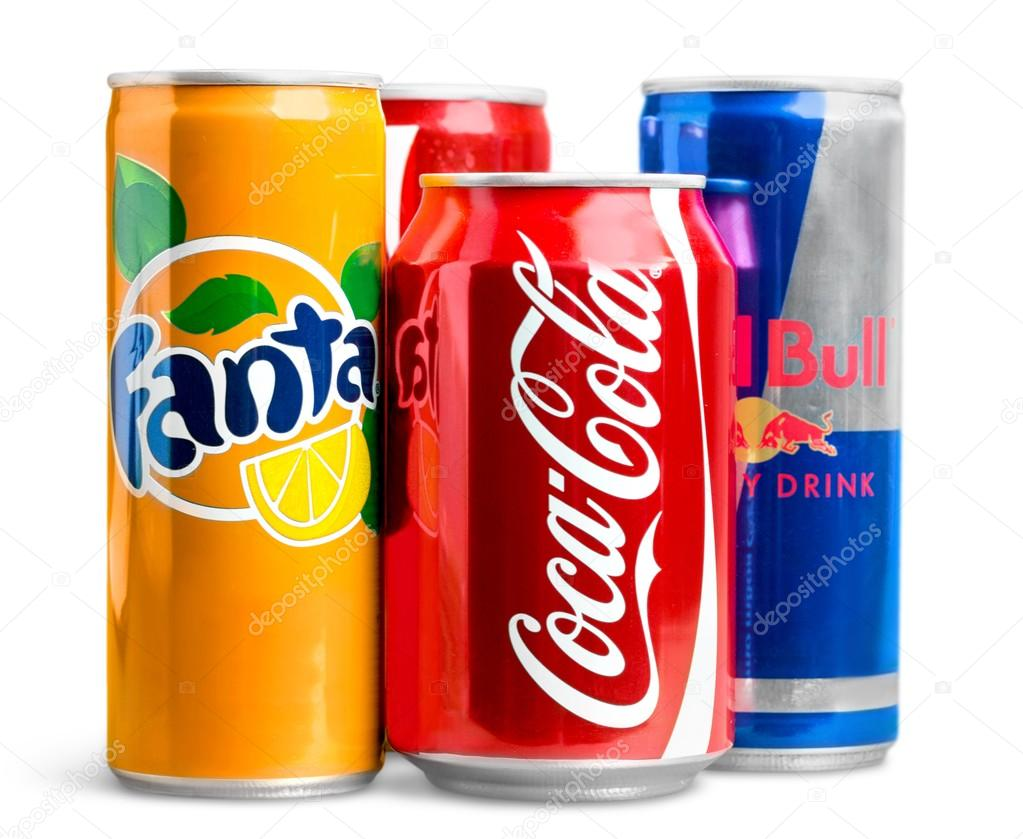fanta: (107, 76, 386, 804)
